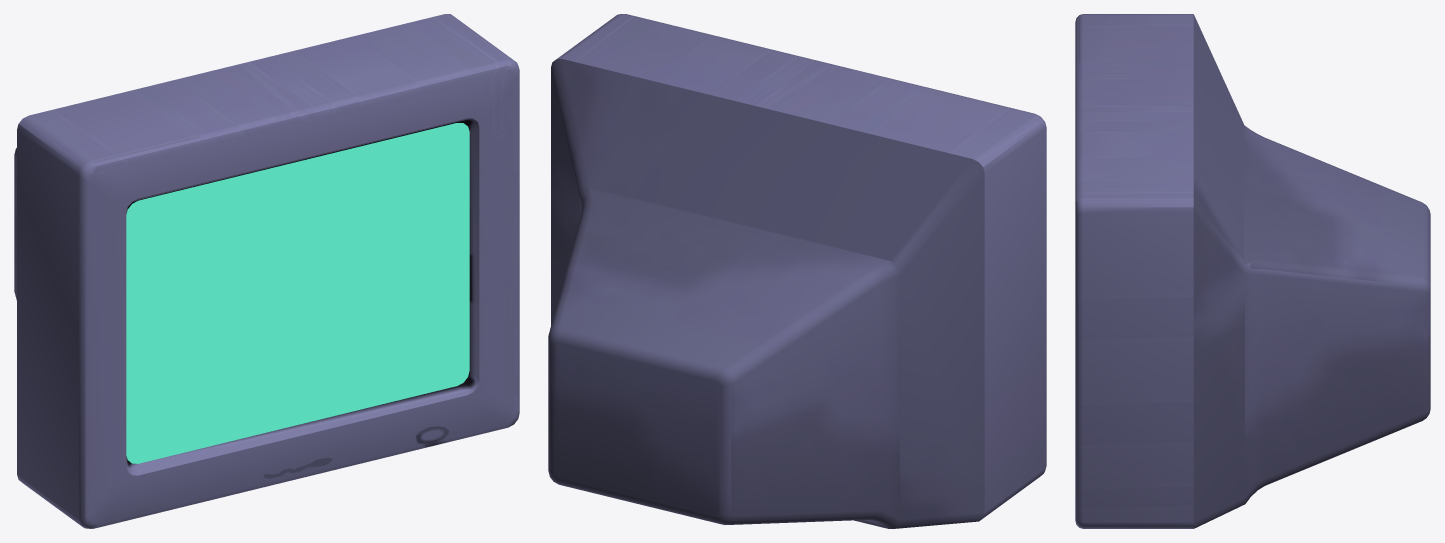
File: screen.glb
3 views of the same model, side by side, from view 1: azimuth 30°, elevation 25°; view 2: azimuth 150°, elevation 25°; view 3: azimuth 270°, elevation 25° (orthographic). The views are drawn at different scales.
Parts seen in each view (by area): view 1: Screen; view 2: Screen; view 3: Screen.
Part boxes in pixels (x1,y1,x2,y2): Screen: (14,14,519,528); Screen: (548,14,1046,528); Screen: (1075,14,1430,528).
Size of the model in its own units: 1.54 by 1.23 by 1.2.
Materials: 2 (1 with a texture image).
